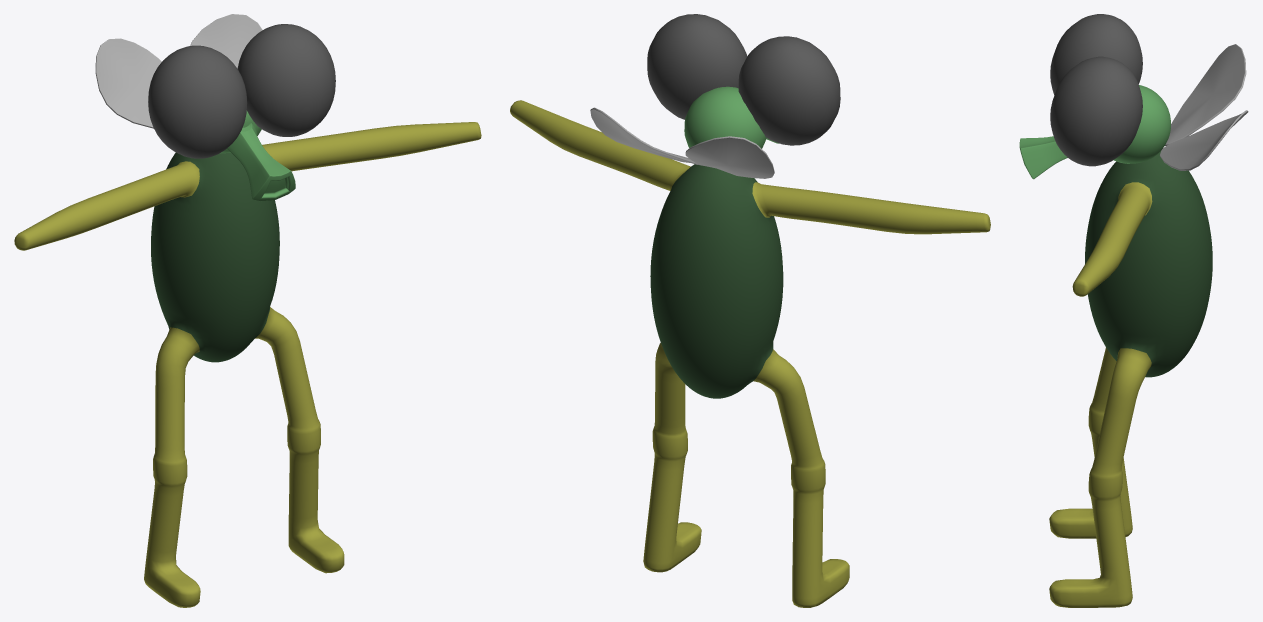
Rendered from Human_Fly_Texture.fbx.
The picture shows the model from 3 angles, left to right: view 1: azimuth 30°, elevation 25°; view 2: azimuth 150°, elevation 25°; view 3: azimuth 270°, elevation 25°; orthographic projection. The views are drawn at different scales.
Parts seen in each view (by area): view 1: polySurface19; view 2: polySurface19; view 3: polySurface19.
Part boxes in pixels (<box>): polySurface19: <box>14,14,481,607</box>; polySurface19: <box>510,14,990,607</box>; polySurface19: <box>1019,14,1248,607</box>.
Size of the model in its own units: 8.17 by 9 by 3.53.
